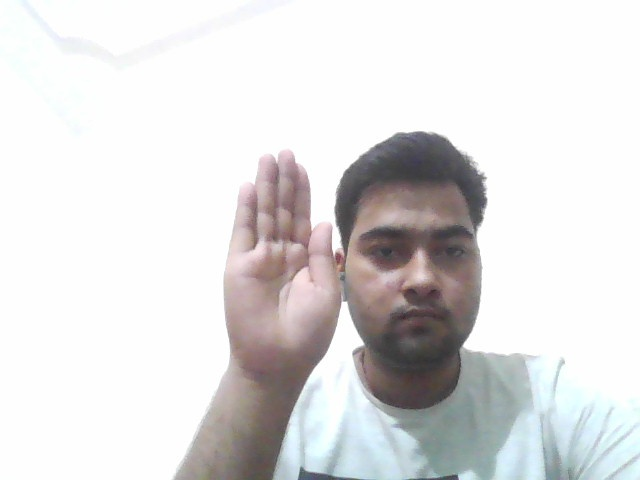Hello: (217, 143, 344, 384)
